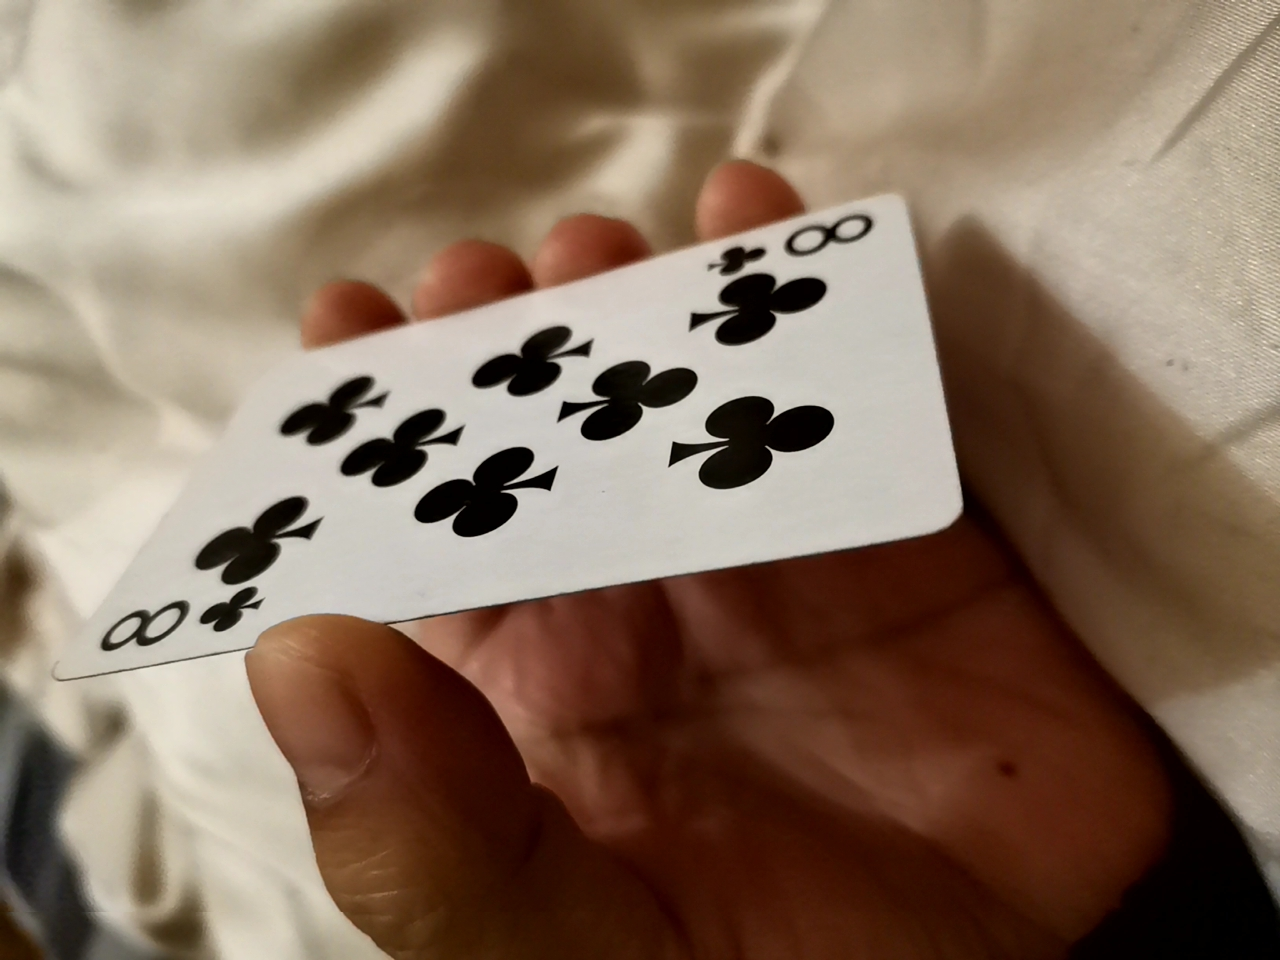mh 8: (118, 205, 962, 671)
